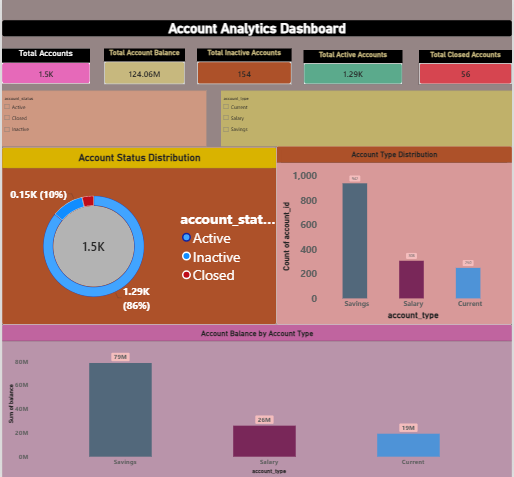

What the dashboard file says about the page in this screenshot:
{"tool":"powerbi","page":{"name":"Account Analysis","canvas":[1700,1600],"ordinal":0},"visuals":[{"type":"textbox","title":"Account Analytics Dashboard","box":[0,70,1700,55],"z":0},{"type":"cardVisual","title":"Total Accounts","fields":{"Data":["accounts_measure.total_count"]},"box":[0,166.7,293.3,116.7],"z":1000},{"type":"cardVisual","title":"Total Account Balance","fields":{"Data":["accounts_measure.total_balance"]},"box":[340,165,270,120],"z":2000},{"type":"cardVisual","title":"Total Active Accounts","fields":{"Data":["accounts_measure.active_account"]},"box":[1005,170,330,115],"z":3000},{"type":"cardVisual","title":"Total Closed Accounts","fields":{"Data":["accounts_measure.closed_account"]},"box":[1390,170,310,115],"z":4000},{"type":"cardVisual","title":"Total Inactive Accounts","fields":{"Data":["accounts_measure.inactive_account"]},"box":[650,165,315,120],"z":5000},{"type":"donutChart","title":"Account Status Distribution","fields":{"Category":["Accounts.account_status"],"Y":["Count(Accounts.account_id)"]},"box":[0,495,915,590],"z":6000},{"type":"columnChart","title":"Account Type Distribution","fields":{"Category":["Accounts.account_type"],"Y":["Count(Accounts.account_id)"]},"box":[915,490,785,595],"z":7000},{"type":"clusteredColumnChart","title":"Account Balance by Account Type","fields":{"Category":["Accounts.account_type"],"Y":["Sum(Accounts.balance)"]},"box":[0,1085,1700,515],"z":8000},{"type":"slicer","fields":{"Values":["Accounts.account_status"]},"box":[0,304.3,681.4,185.7],"z":8001},{"type":"slicer","fields":{"Values":["Accounts.account_type"]},"box":[728.6,304.3,971.4,185.7],"z":8002}]}

Visuals, with their boxes in screenshot pixels (x1, y1, x2, y2), scaled from the page's 1700x1600 canvas onto the 514x477 screenshot:
"Account Analytics Dashboard" textbox: Rect(0, 21, 513, 37)
"Total Accounts" cardVisual: Rect(0, 50, 89, 84)
"Total Account Balance" cardVisual: Rect(103, 49, 184, 85)
"Total Active Accounts" cardVisual: Rect(304, 51, 404, 85)
"Total Closed Accounts" cardVisual: Rect(420, 51, 513, 85)
"Total Inactive Accounts" cardVisual: Rect(197, 49, 292, 85)
"Account Status Distribution" donutChart: Rect(0, 148, 277, 323)
"Account Type Distribution" columnChart: Rect(277, 146, 513, 323)
"Account Balance by Account Type" clusteredColumnChart: Rect(0, 323, 513, 476)
slicer - Accounts.account_status: Rect(0, 91, 206, 146)
slicer - Accounts.account_type: Rect(220, 91, 513, 146)
